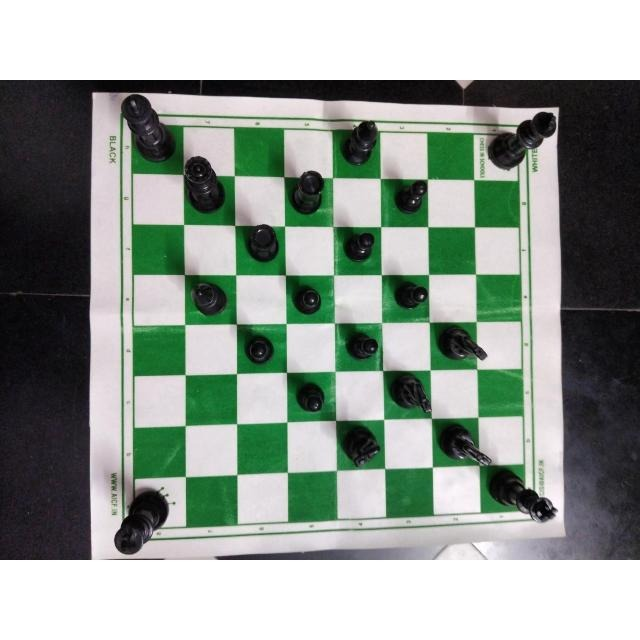black-bishop: (341, 115, 383, 171), (183, 275, 233, 318)
black-king: (482, 469, 562, 529), (115, 94, 179, 165), (110, 486, 174, 557), (487, 111, 559, 171)
black-knight: (436, 422, 495, 471), (431, 322, 489, 367), (384, 371, 436, 419), (340, 420, 384, 472)
black-pawn: (288, 281, 328, 321), (341, 326, 380, 366), (390, 177, 429, 215), (289, 379, 329, 416), (243, 331, 282, 368), (391, 278, 428, 314), (338, 229, 378, 262)
black-queen: (179, 154, 231, 218)
black-rook: (285, 168, 328, 219), (240, 218, 280, 268)
